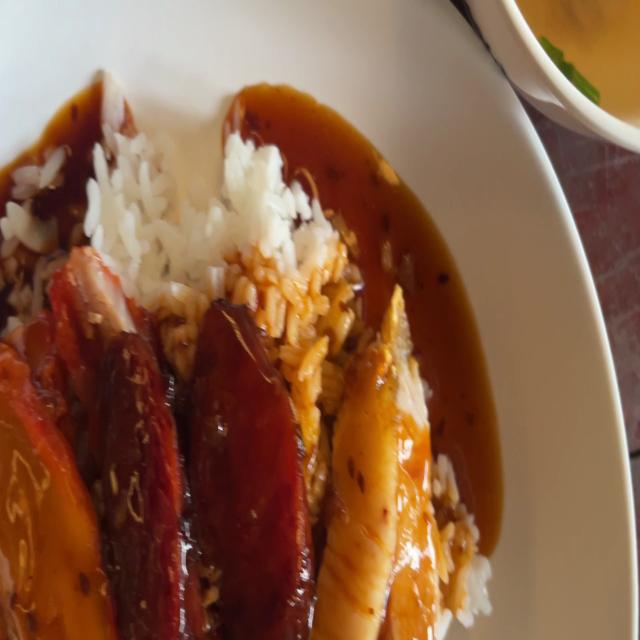01chainese_sausage: (101, 327, 308, 640), (189, 289, 300, 640), (102, 334, 184, 640)
01crispy_pork: (333, 288, 444, 640), (325, 324, 396, 640), (391, 292, 437, 640)
01red_pork: (0, 296, 98, 640), (27, 240, 112, 413)
01red_pork_and_crispy_pork: (0, 124, 478, 640)
01rice: (42, 81, 385, 292)
